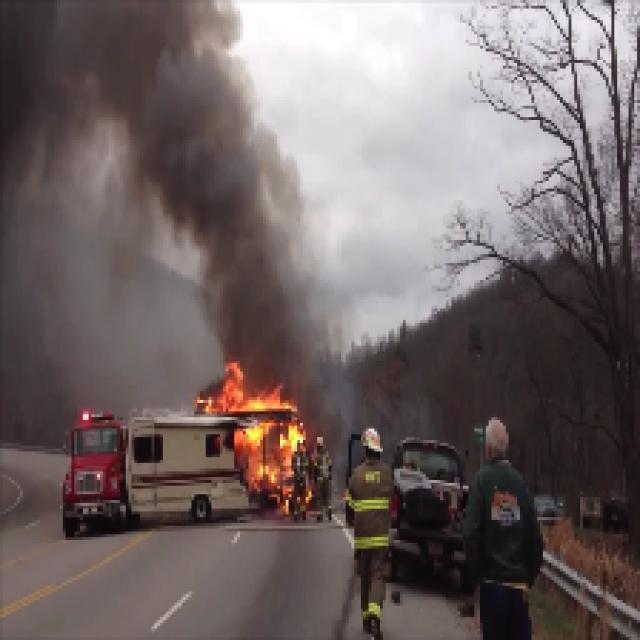Fire: (191, 344, 312, 518)
Smoke: (0, 2, 197, 125), (166, 175, 300, 320)
